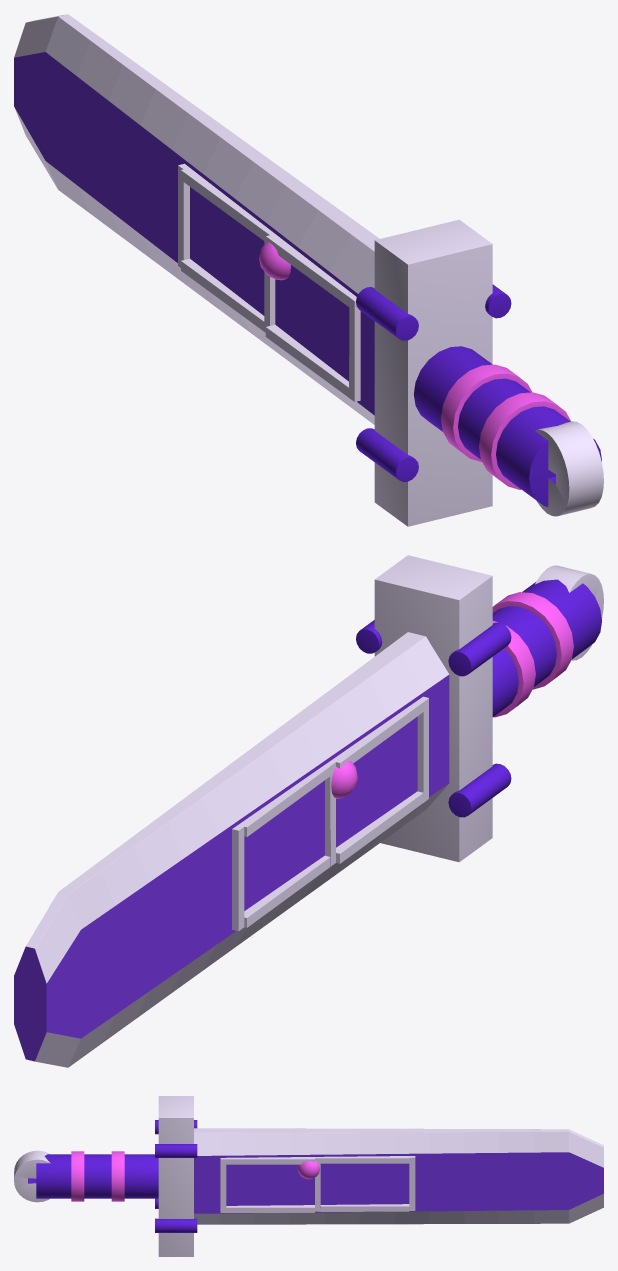
File: Sword_RiftwalkerBroadsword.glb
3 views of the same model, one above another, from view 1: azimuth 30°, elevation 25°; view 2: azimuth 150°, elevation 25°; view 3: azimuth 270°, elevation 25° (orthographic). The views are drawn at different scales.
Parts seen in each view (by area): view 1: Sword_RiftwalkerBroadsword; view 2: Sword_RiftwalkerBroadsword; view 3: Sword_RiftwalkerBroadsword.
Boxes of the visible parts, x1,y1,x2,y2 form: Sword_RiftwalkerBroadsword: (14,14,603,526); Sword_RiftwalkerBroadsword: (14,555,603,1067); Sword_RiftwalkerBroadsword: (14,1096,603,1256).
Size of the model in its own units: 0.12 by 0.26 by 1.
1 material, 1 textured.
